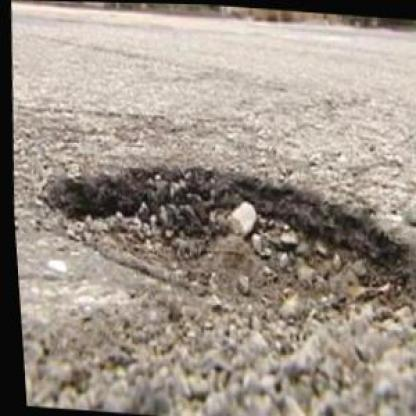pothole: (31, 152, 414, 358)
